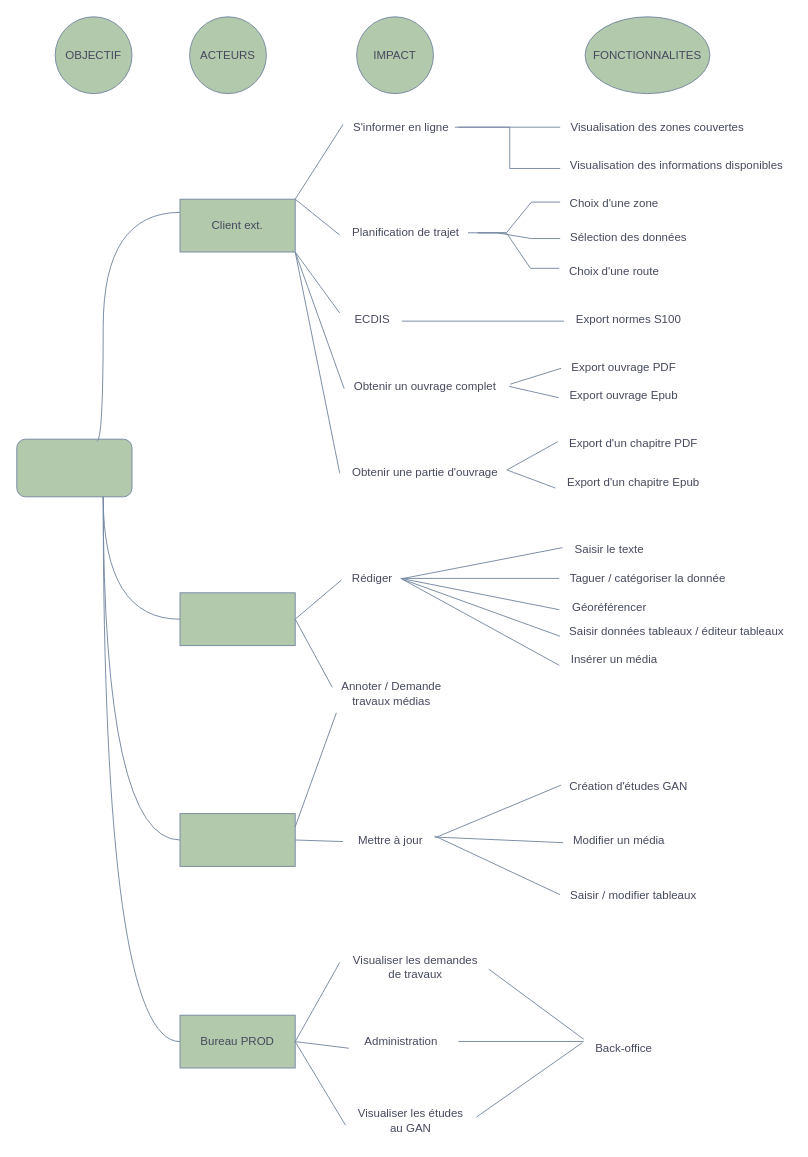
This 808x1157 diagram has some shape labels left out. Each missing label, with the centre of its shape:
"Outil de Production des ouvrages" goes at point (74, 467).
"Rédacteurs" goes at point (237, 619).
"Secteurs" goes at point (237, 839).
